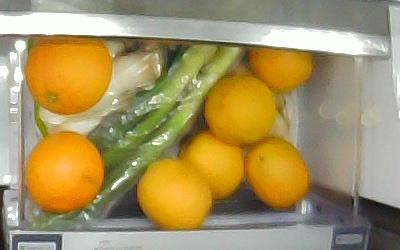orange: (26, 35, 112, 115), (23, 133, 105, 213), (137, 158, 212, 229), (204, 75, 276, 146), (245, 137, 310, 209), (179, 130, 244, 199), (247, 47, 314, 93)
